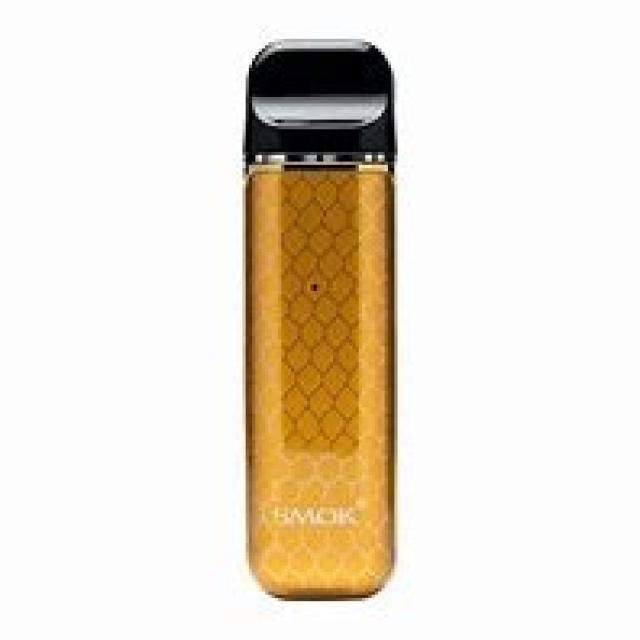Hazard: (239, 36, 398, 598)
